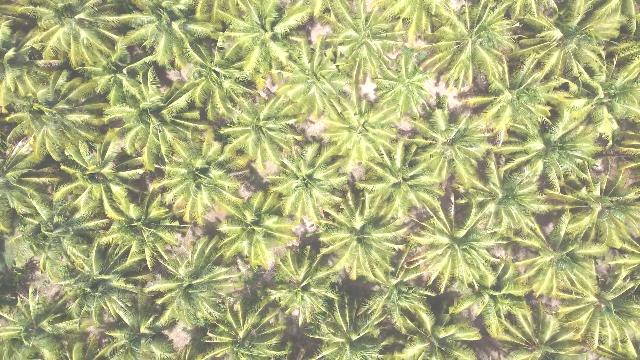trees: (518, 3, 633, 101), (7, 68, 114, 171), (406, 200, 508, 297), (107, 70, 206, 169), (10, 185, 109, 278), (15, 2, 136, 74), (476, 55, 567, 149), (147, 242, 238, 334), (321, 6, 412, 97), (57, 240, 148, 331), (320, 197, 412, 287), (352, 137, 444, 226), (402, 106, 491, 197), (155, 137, 241, 228), (214, 4, 310, 85), (554, 164, 640, 253), (101, 192, 186, 280), (211, 189, 298, 274), (222, 94, 308, 177), (430, 4, 511, 92), (473, 156, 555, 242), (562, 270, 640, 360), (265, 142, 348, 226), (275, 36, 353, 125), (123, 4, 218, 76), (386, 292, 485, 360), (511, 227, 597, 305), (323, 92, 397, 179), (263, 251, 341, 332), (459, 262, 536, 341), (311, 293, 401, 360), (576, 54, 640, 148), (532, 111, 604, 190), (2, 289, 78, 358), (375, 50, 440, 124)
